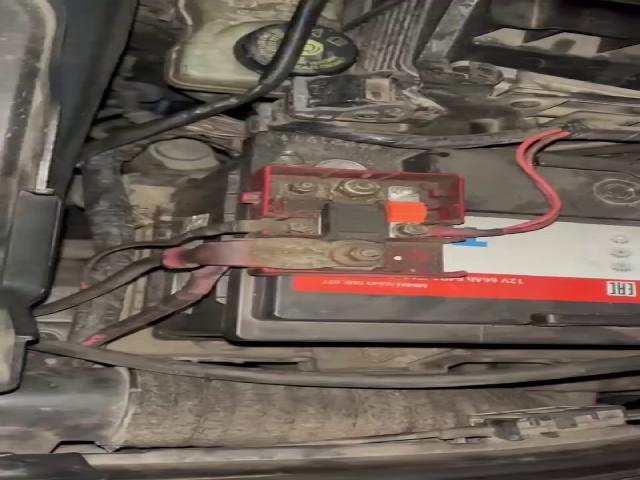accumulator: (141, 130, 637, 349)
